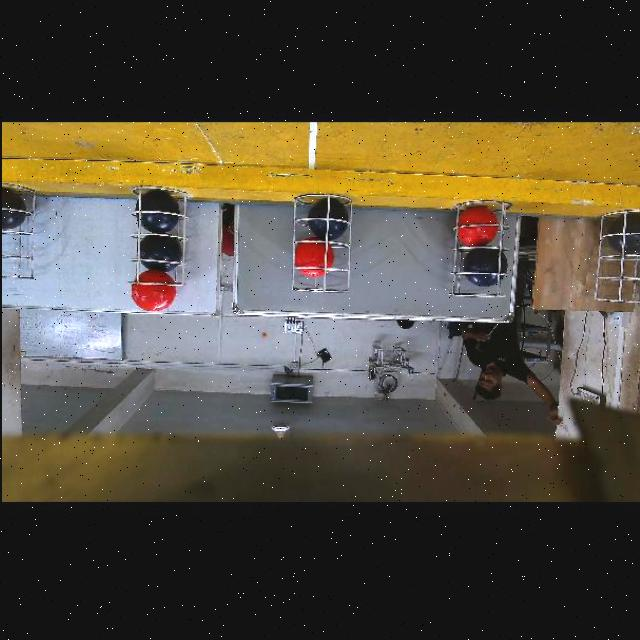P: (134, 192, 176, 233), (138, 234, 181, 273), (464, 246, 505, 285), (307, 200, 346, 240), (609, 215, 640, 254), (0, 187, 24, 226)
R: (130, 270, 175, 312), (455, 206, 498, 246), (294, 242, 332, 277)
S: (281, 191, 355, 297), (448, 204, 509, 306), (131, 176, 185, 290), (586, 208, 640, 308), (0, 182, 34, 278)
